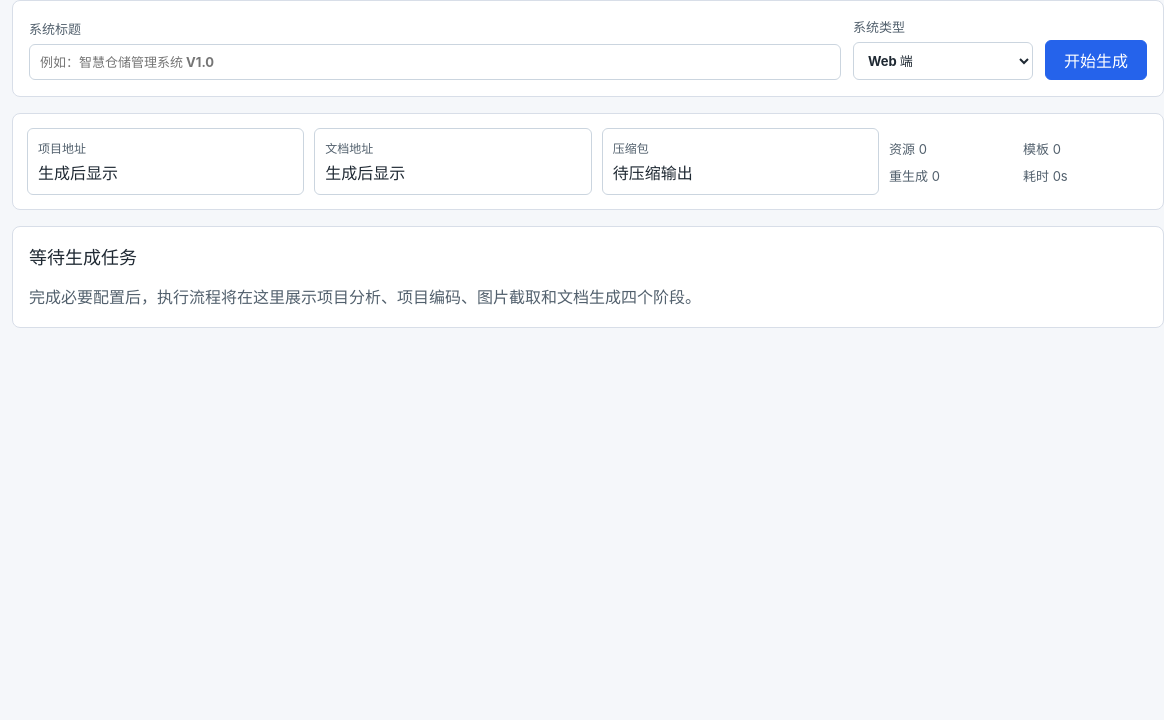
DashboardView › shows validation issues before generation starts
Click the button with test id "start-generation" at (1096, 60), box [1045,40,1147,80]
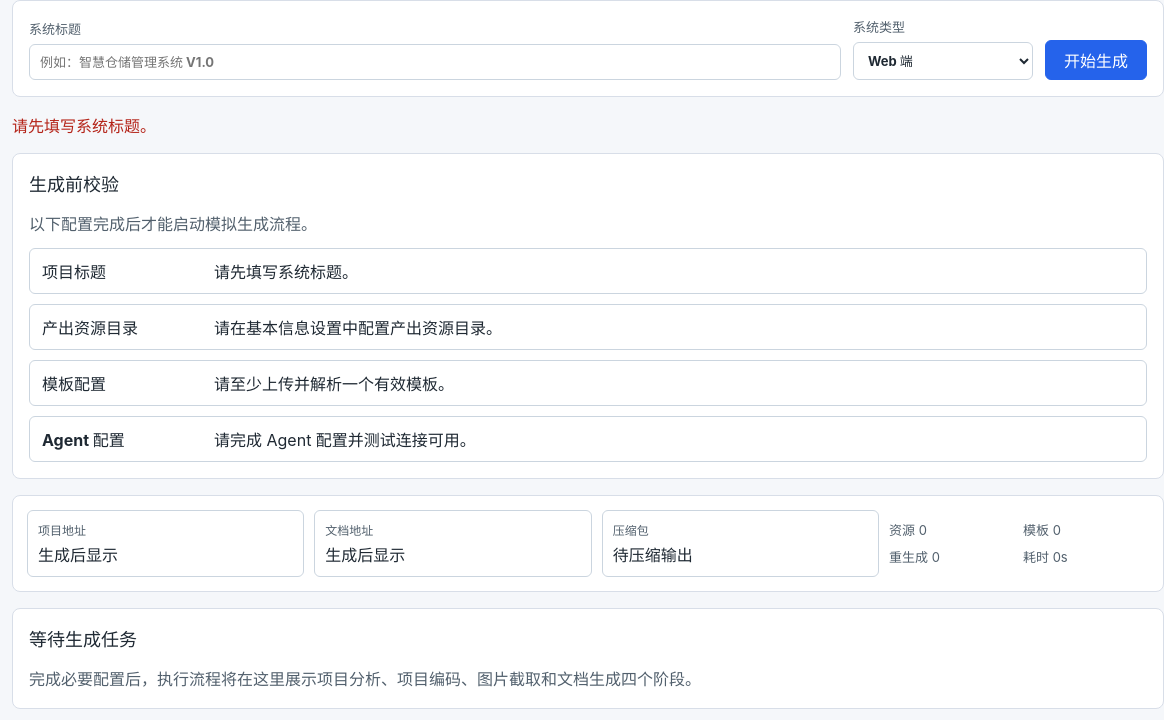
Expected: the text "模板" is shown, [42,374,106,394]
Result: the text "产出资源目录" is shown at [42,318,138,338]
Result: the text "Agent" is shown at [42,430,125,450]
